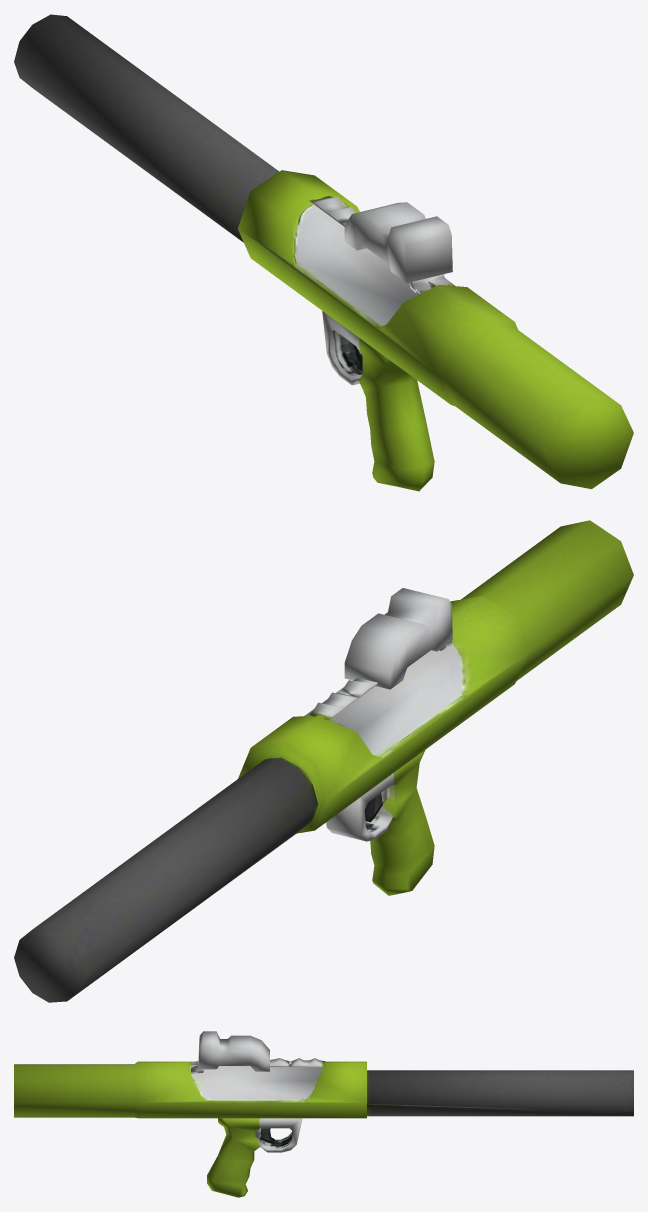
File: bazooka-model.glb
The picture shows the model from 3 angles, top to bottom: view 1: azimuth 30°, elevation 25°; view 2: azimuth 150°, elevation 25°; view 3: azimuth 270°, elevation 25°; orthographic projection. The views are drawn at different scales.
Parts seen in each view (by area): view 1: tripo_node_23176f9f-3c87-45a2-941f-8080fcdde3d5; view 2: tripo_node_23176f9f-3c87-45a2-941f-8080fcdde3d5; view 3: tripo_node_23176f9f-3c87-45a2-941f-8080fcdde3d5.
Part boxes in pixels (x1=…): tripo_node_23176f9f-3c87-45a2-941f-8080fcdde3d5: x1=14, y1=14, x2=633, y2=491; tripo_node_23176f9f-3c87-45a2-941f-8080fcdde3d5: x1=14, y1=520, x2=633, y2=1002; tripo_node_23176f9f-3c87-45a2-941f-8080fcdde3d5: x1=14, y1=1031, x2=633, y2=1197.
Bounding box in the file's own units: 0.0957 × 0.2832 × 0.998.
Materials: 1 (1 with a texture image).
